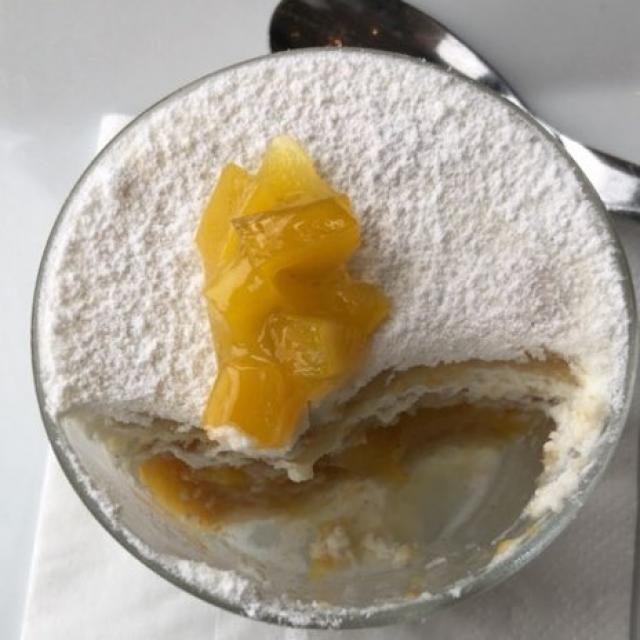tiramisu: (68, 72, 623, 514)
